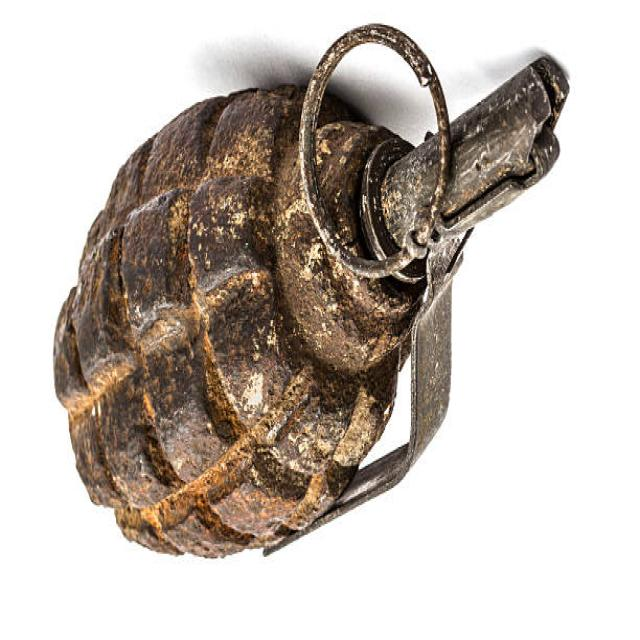grenade: (44, 9, 590, 588)
